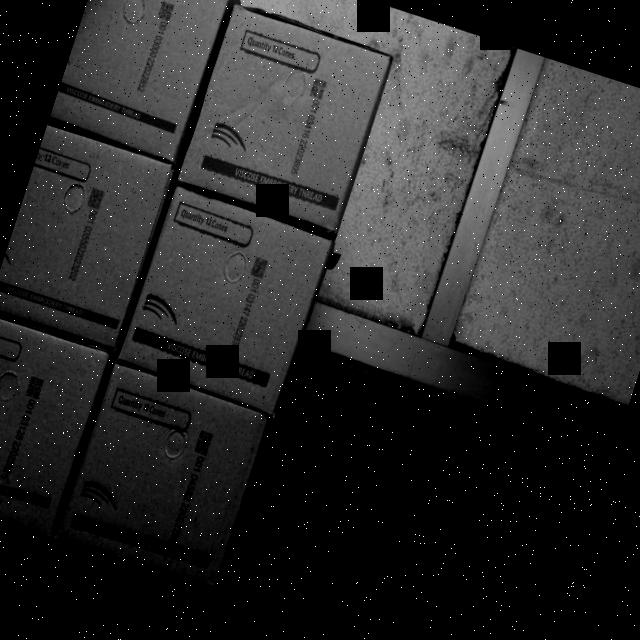box: (177, 1, 396, 232), (118, 186, 331, 414), (62, 362, 270, 584), (0, 124, 174, 355), (49, 0, 235, 161), (0, 310, 113, 550)
